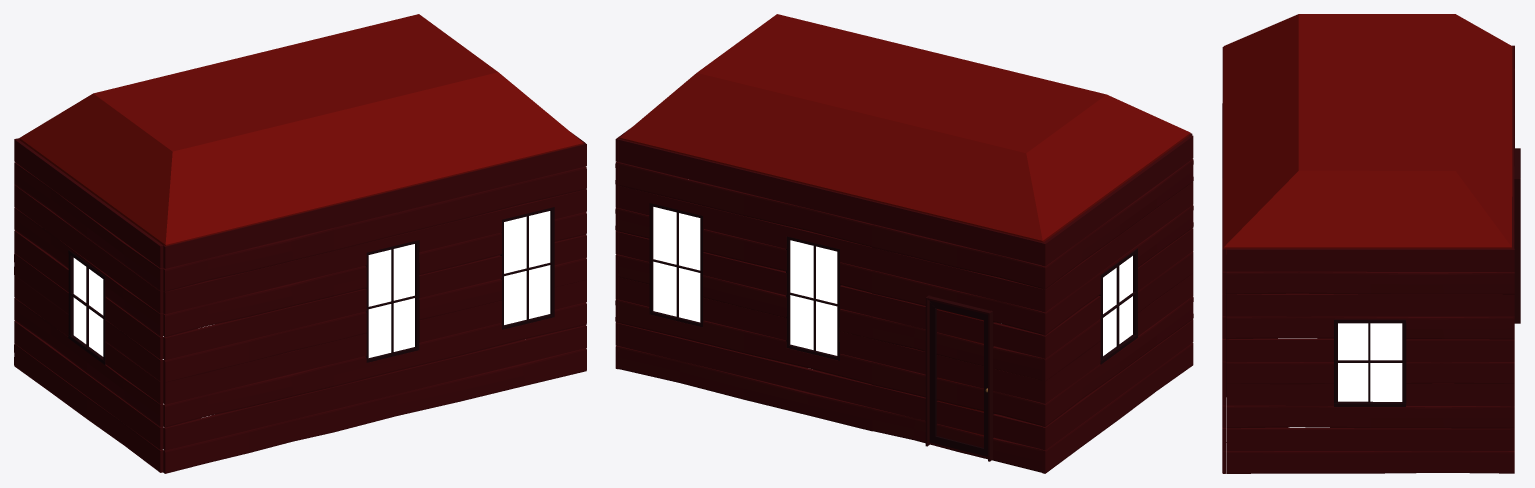
Rendered from d2h_house2.fbx.
3 views of the same model, side by side, from view 1: azimuth 30°, elevation 25°; view 2: azimuth 150°, elevation 25°; view 3: azimuth 270°, elevation 25° (orthographic). The views are drawn at different scales.
Visible parts, largest first — view 1: h2.001; view 2: h2.001; view 3: h2.001.
Part boxes in pixels (bbox=[...]): h2.001: bbox=[14, 14, 586, 473]; h2.001: bbox=[615, 14, 1193, 473]; h2.001: bbox=[1222, 14, 1520, 473].
Bounding box in the file's own units: 38.43 × 24.4 × 23.66.
